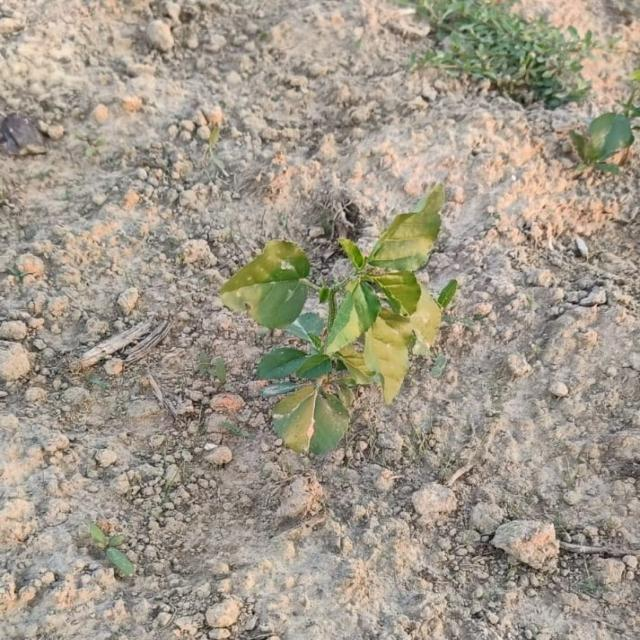weed: (222, 184, 457, 455)
